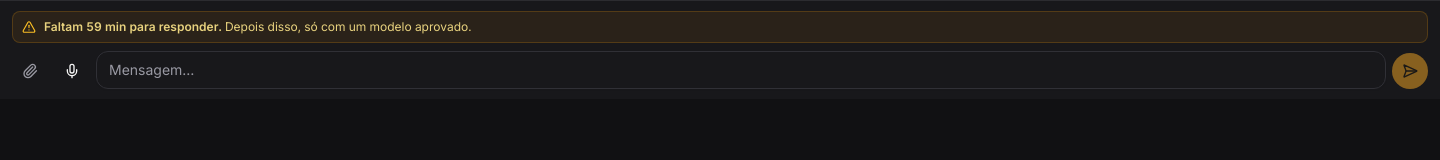
Composer — envio de texto e rascunho › falha de envio preserva o texto
Type "Tentativa" into the text box labelled "Mensagem".
click(741, 70); type("Tentativa")  # box [96, 51, 1386, 89]
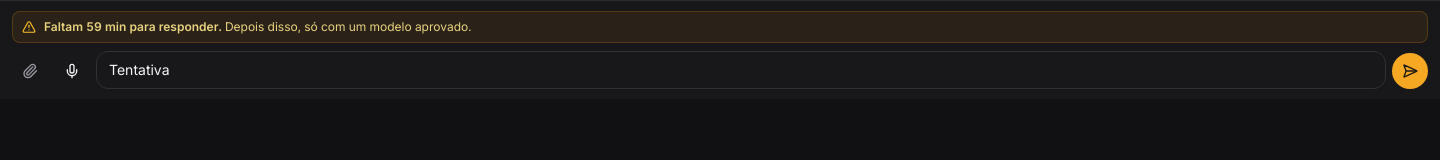
Click the button named "Enviar".
click(1410, 71)  # box [1392, 53, 1428, 89]
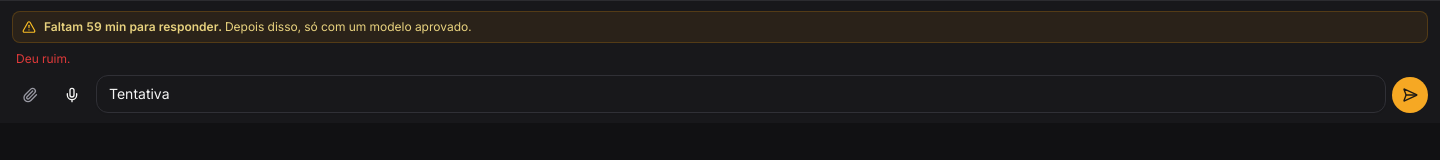
Expected: the message reads "Deu ruim.", [16, 51, 70, 66]
